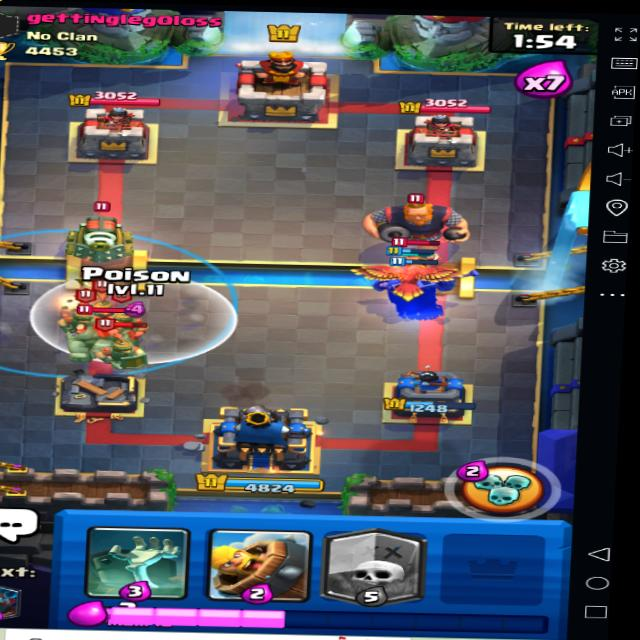electro-barbarians: (388, 228, 439, 270)
golem: (52, 301, 160, 367)
royal-giant: (362, 190, 474, 250)
royal-recruits: (99, 328, 155, 377), (59, 294, 96, 335)
sparky: (61, 200, 138, 265)
